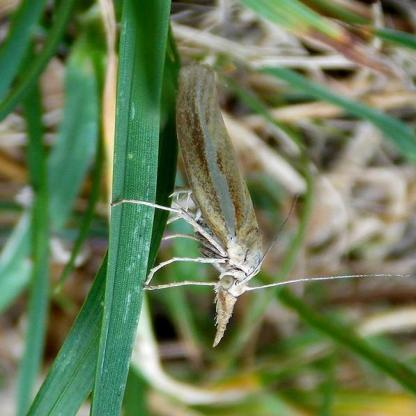stem-borer: (107, 62, 408, 354)
